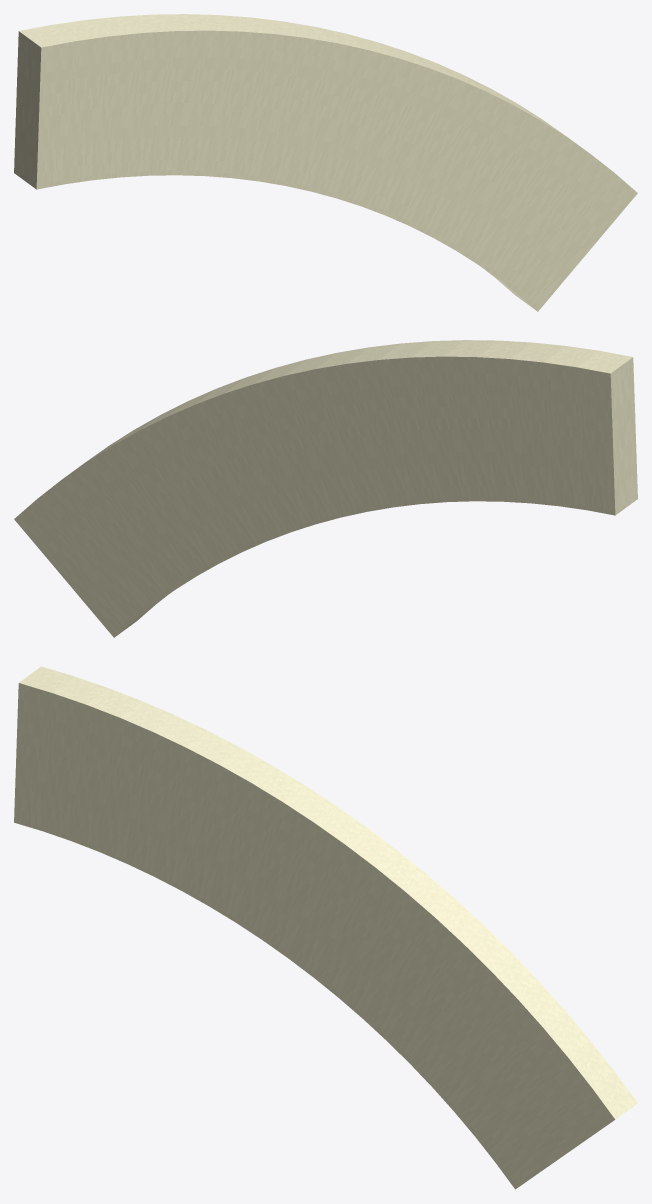
The model's file is destiny_door_controller_white_lit_offset_1.obj.
The picture shows the model from 3 angles, top to bottom: view 1: azimuth 30°, elevation 25°; view 2: azimuth 150°, elevation 25°; view 3: azimuth 330°, elevation 25°; orthographic projection.
Parts seen in each view (by area): view 1: Destiny_airlock_controller; view 2: Destiny_airlock_controller; view 3: Destiny_airlock_controller.
Boxes of the visible parts, x1,y1,x2,y2 form: Destiny_airlock_controller: (14,14,637,311); Destiny_airlock_controller: (14,340,637,637); Destiny_airlock_controller: (14,666,637,1189).
Size of the model in its own units: 0.1613 by 0.0988 by 0.0105.
